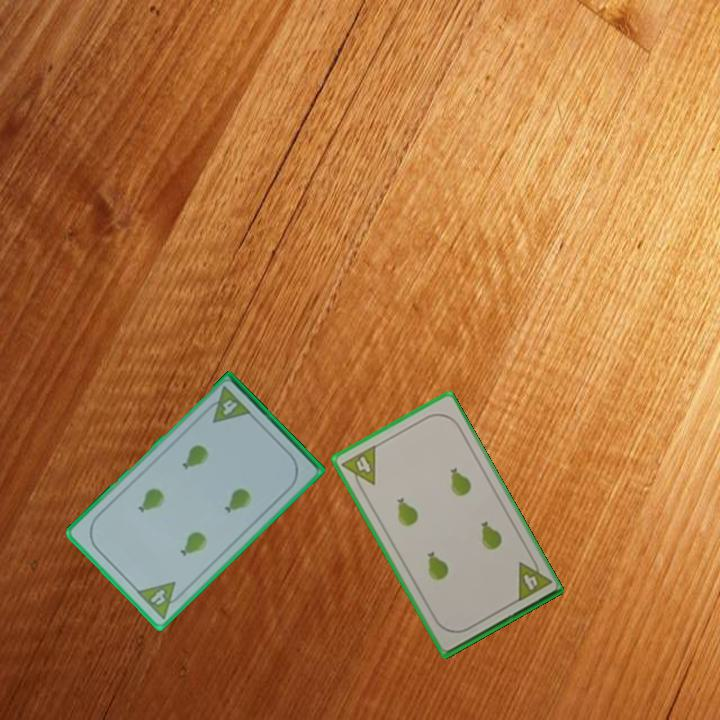4p: (133, 578, 188, 622), (201, 383, 254, 426), (338, 441, 379, 494), (513, 553, 554, 605)
